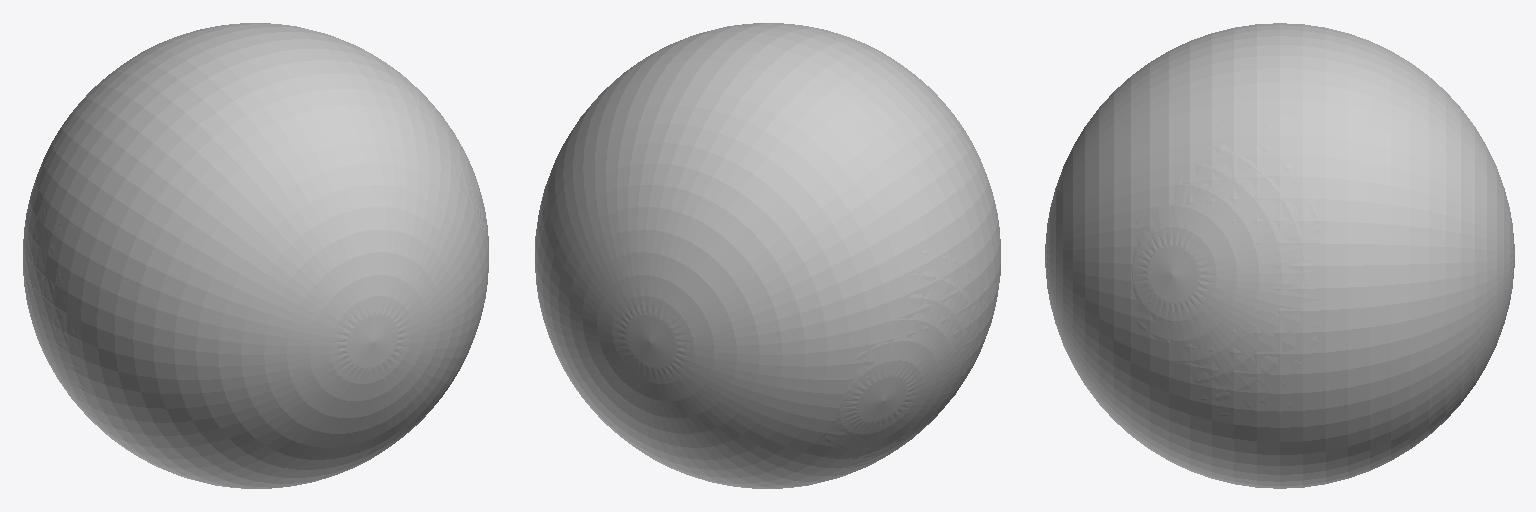
The model's file is Image.obj.
The picture shows the model from 3 angles: view 1: azimuth 30°, elevation 25°; view 2: azimuth 150°, elevation 25°; view 3: azimuth 270°, elevation 25°; orthographic projection.
Visible parts, largest first — view 1: obj3, obj2; view 2: obj3, obj2; view 3: obj3, obj2.
Boxes of the visible parts, x1,y1,x2,y2 form: obj3: [23, 23, 488, 488]; obj2: [23, 51, 488, 448]; obj3: [535, 23, 1000, 488]; obj2: [591, 44, 985, 478]; obj3: [1045, 23, 1514, 488]; obj2: [1132, 124, 1336, 421].
Size of the model in its own units: 19.94 by 19.94 by 20.15.